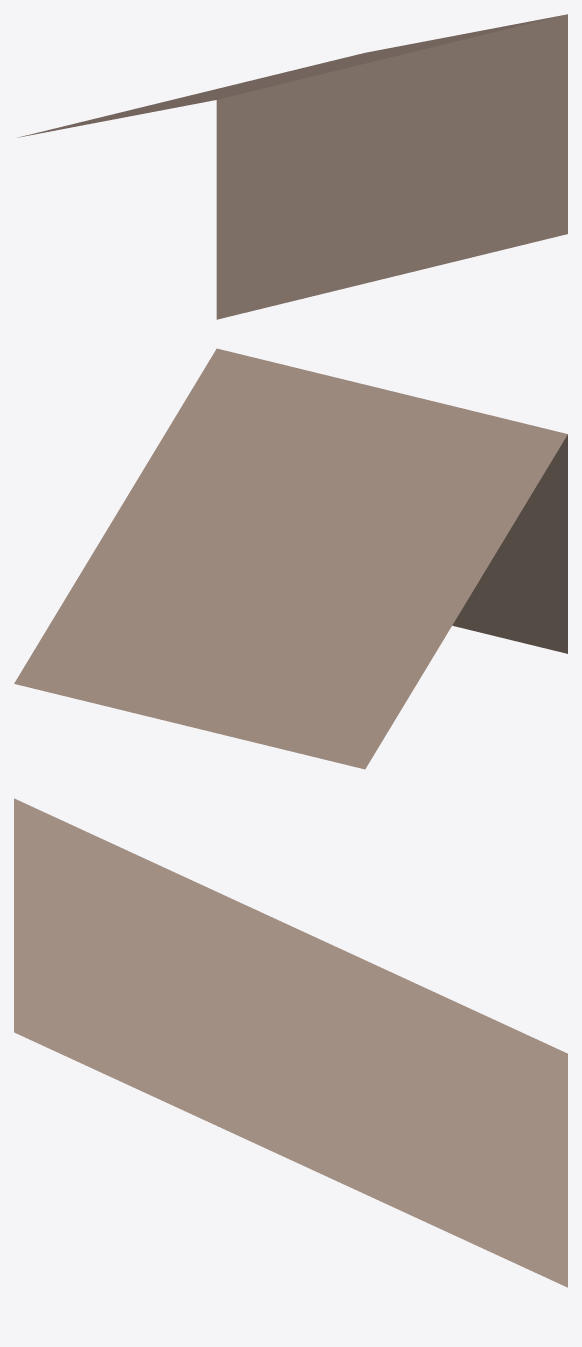
File: BD_RoofSlant_col_SideDecline.fbx
3 renders of one model, top to bottom at view 1: azimuth 30°, elevation 25°; view 2: azimuth 150°, elevation 25°; view 3: azimuth 270°, elevation 25°, orthographic. The views are drawn at different scales.
Visible parts, largest first — view 1: BD_RoofSlant_col_SideDecline; view 2: BD_RoofSlant_col_SideDecline; view 3: BD_RoofSlant_col_SideDecline.
Boxes of the visible parts, x1,y1,x2,y2 form: BD_RoofSlant_col_SideDecline: (18,14,567,319); BD_RoofSlant_col_SideDecline: (14,348,567,769); BD_RoofSlant_col_SideDecline: (14,798,567,1287).
Bounding box in the file's own units: 6 × 3.59 × 6.
